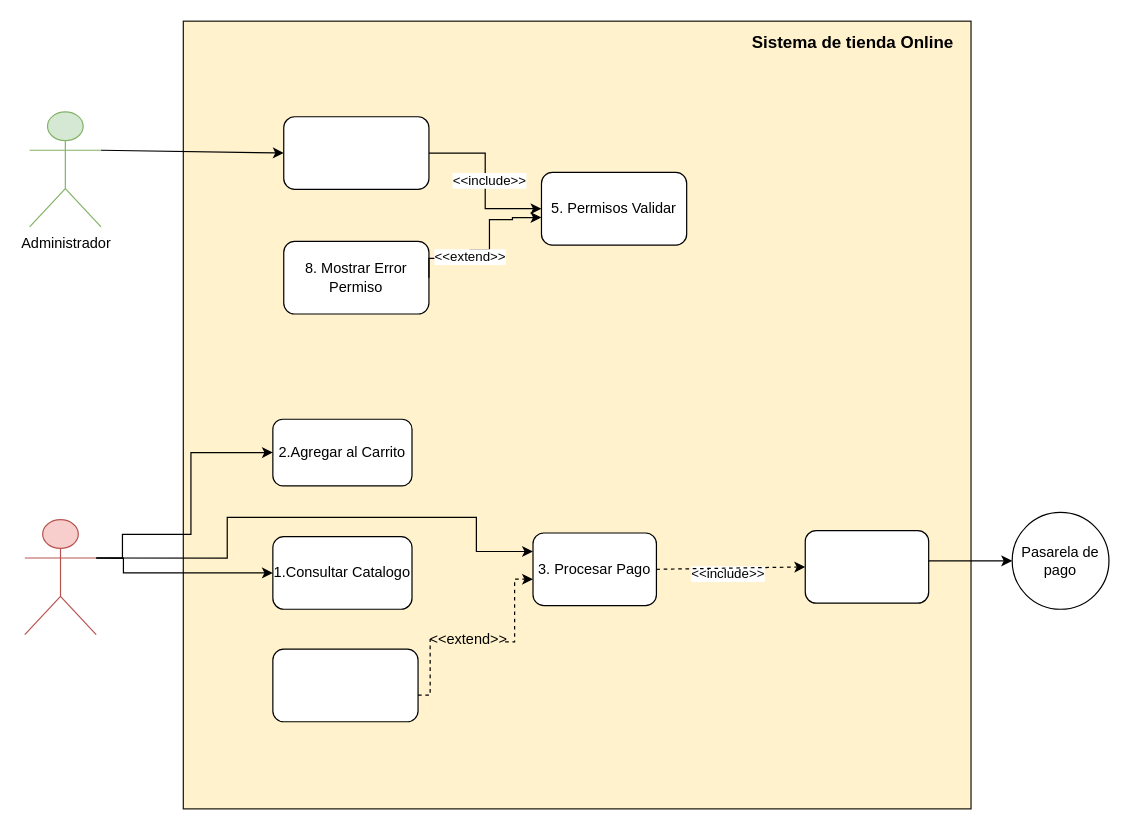
Image size: 1130x830. Some labels were removed from this diagram. The centre of each missing label's shape, as x and y in pixels:
"4. Seleccionar Estrategia de Pago" goes at (x=866, y=566).
"6. Gestionar Inventario" goes at (x=356, y=152).
"7. Generar Comprobante de PDF" goes at (x=345, y=685).
"Cliente" goes at (x=60, y=576).
